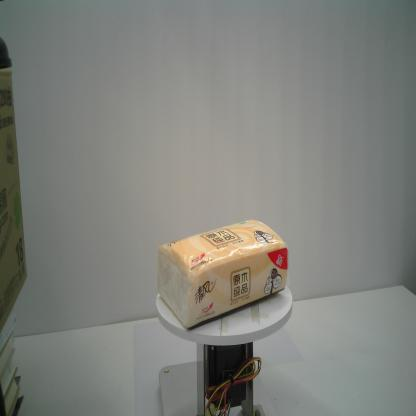Tissue: (156, 218, 289, 330)
